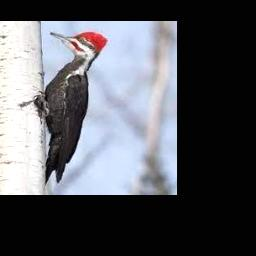Woodpecker: (37, 32, 107, 185)
